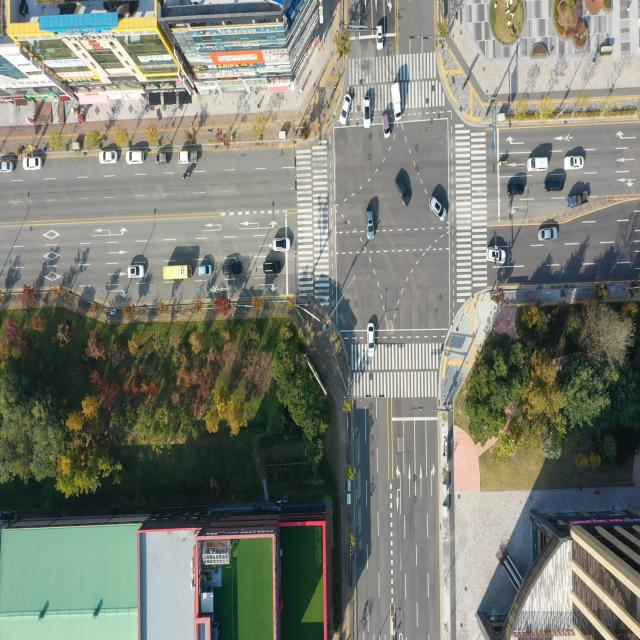car: (394, 172, 410, 207), (428, 197, 446, 223), (340, 94, 351, 128), (486, 247, 506, 265), (528, 158, 549, 173), (366, 324, 375, 356), (538, 228, 556, 243), (100, 149, 118, 164), (365, 209, 374, 239), (564, 158, 583, 172), (25, 158, 44, 172), (222, 262, 241, 276), (127, 150, 145, 164), (364, 96, 371, 131), (129, 266, 146, 280), (507, 182, 524, 195), (544, 180, 562, 192), (384, 110, 392, 137), (274, 239, 291, 251), (265, 263, 282, 275), (155, 152, 169, 165), (376, 25, 383, 51), (0, 162, 15, 174), (199, 266, 213, 278)
small_bus: (162, 266, 191, 282)
small_truck: (390, 81, 402, 122), (567, 191, 592, 207), (178, 150, 198, 166)
